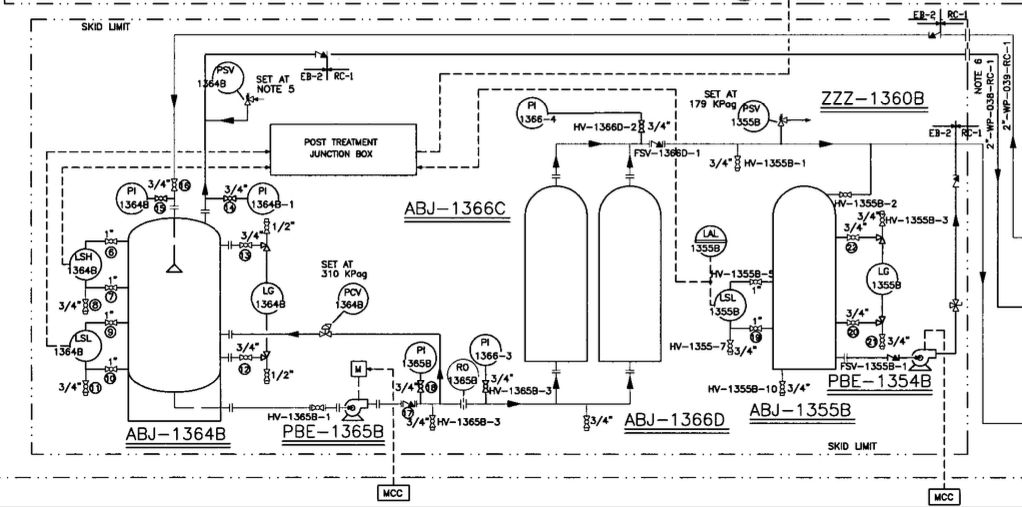Instrument-offset: (506, 94, 566, 130), (244, 180, 300, 218), (326, 283, 382, 318), (52, 328, 102, 367), (196, 58, 247, 96), (242, 279, 287, 319), (687, 222, 732, 261), (705, 287, 752, 324), (862, 261, 908, 298), (726, 99, 775, 133), (466, 332, 514, 365), (393, 340, 438, 375), (65, 242, 103, 282), (111, 180, 153, 215), (444, 356, 482, 392)
